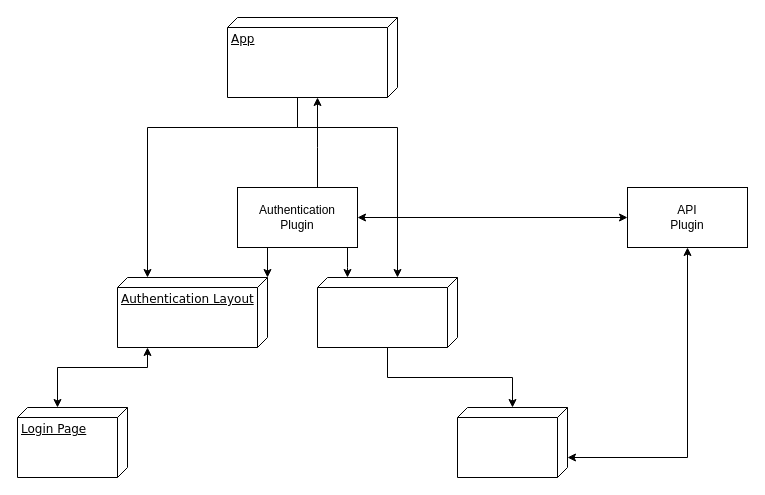
Image size: 765x495. Some labels were removed from this diagram. Each missing label, with the box of its shape:
Main Layout: (316, 276, 458, 348)
Page 1: (456, 406, 568, 478)
